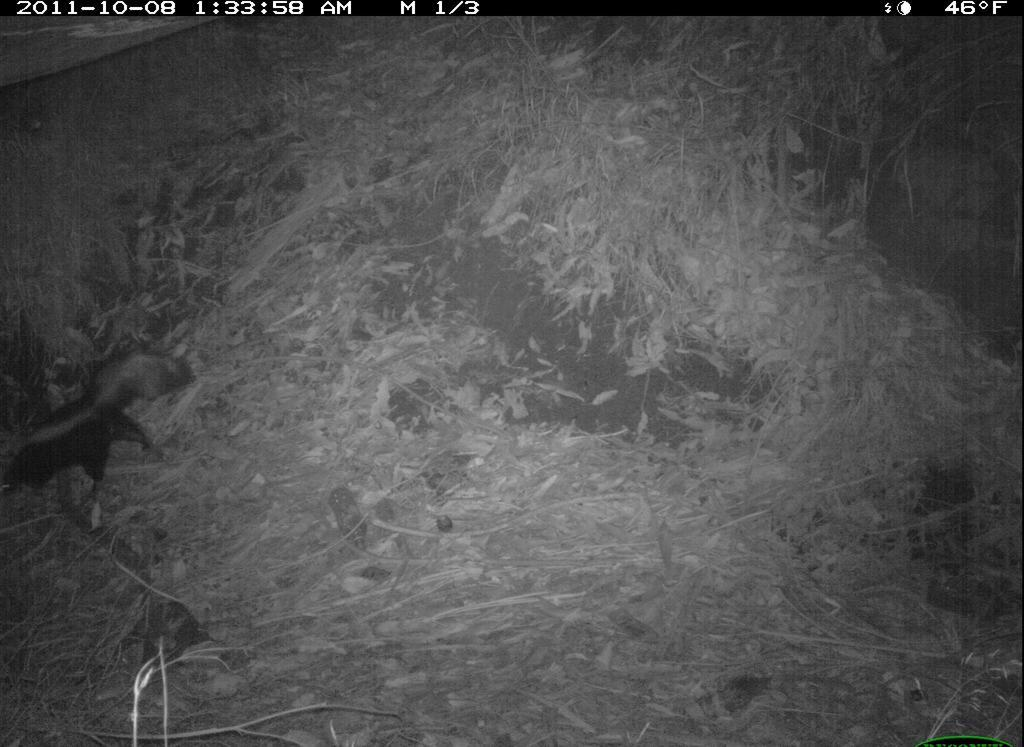skunk: (3, 337, 207, 537)
